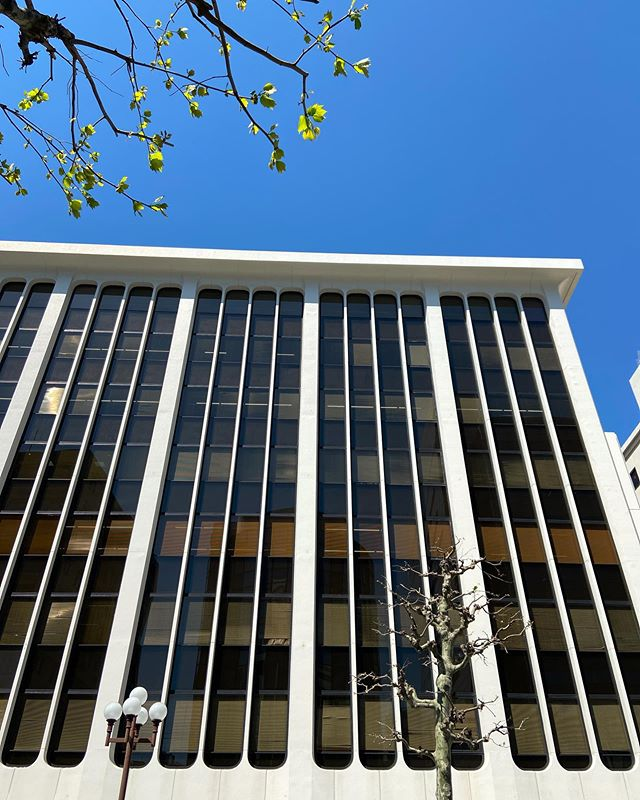building: (1, 271, 599, 800)
sky: (73, 1, 640, 243)
tree: (1, 1, 306, 210)
